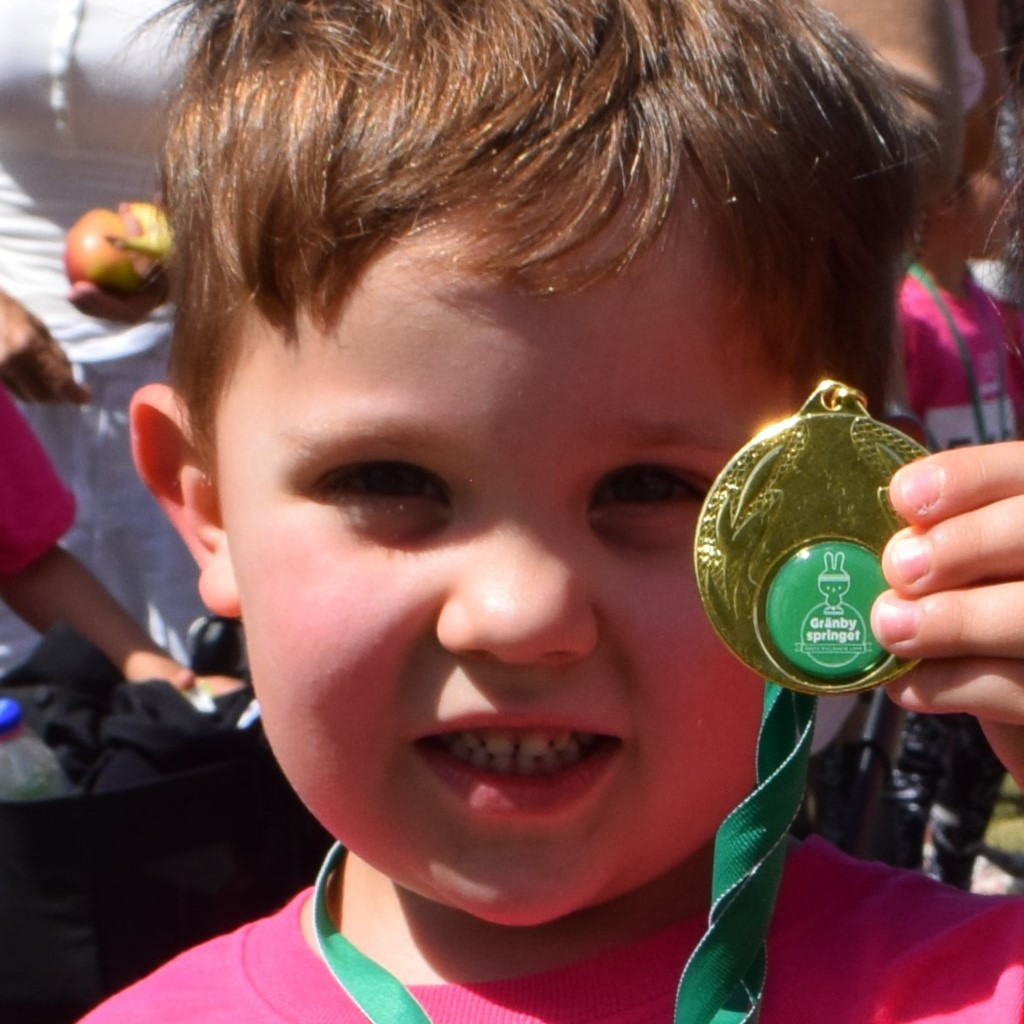sin_mascara: (143, 78, 831, 924)
